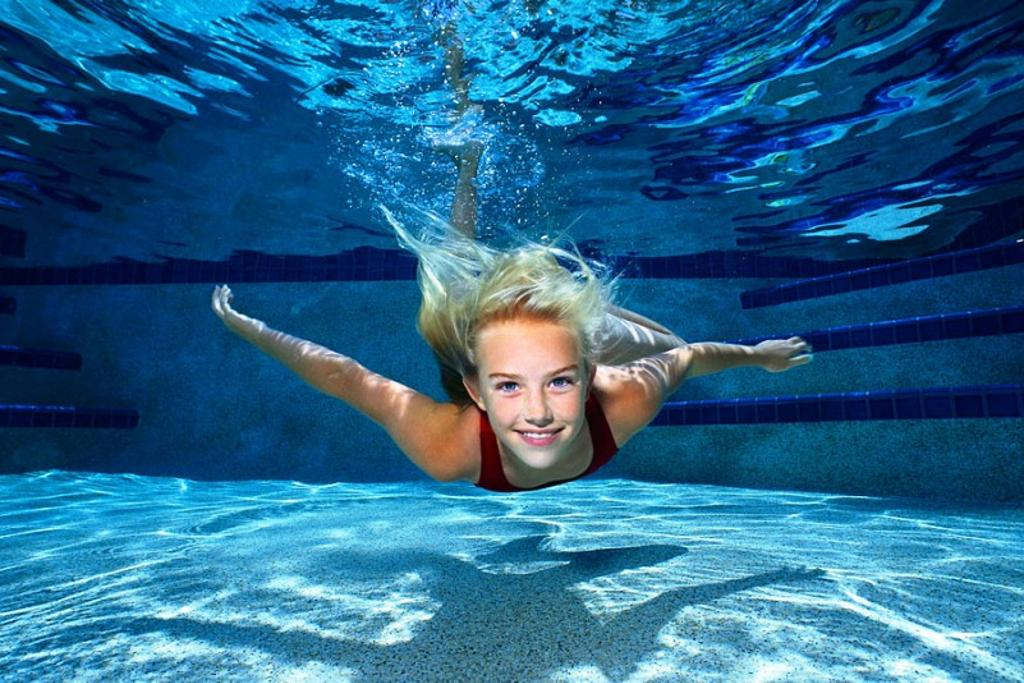face: (482, 320, 586, 476)
